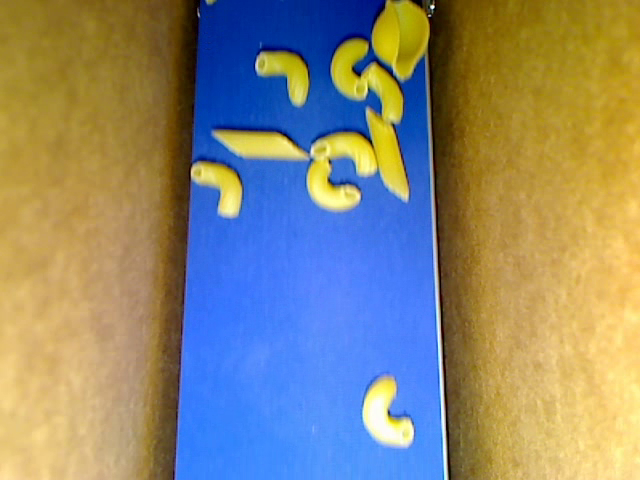elbow: (361, 374, 413, 448), (310, 131, 377, 177), (255, 51, 310, 106), (307, 157, 361, 212), (190, 160, 242, 217), (363, 62, 403, 122), (331, 38, 368, 99)
penne: (364, 107, 410, 202), (211, 130, 310, 161)
shell: (372, 1, 429, 83)
